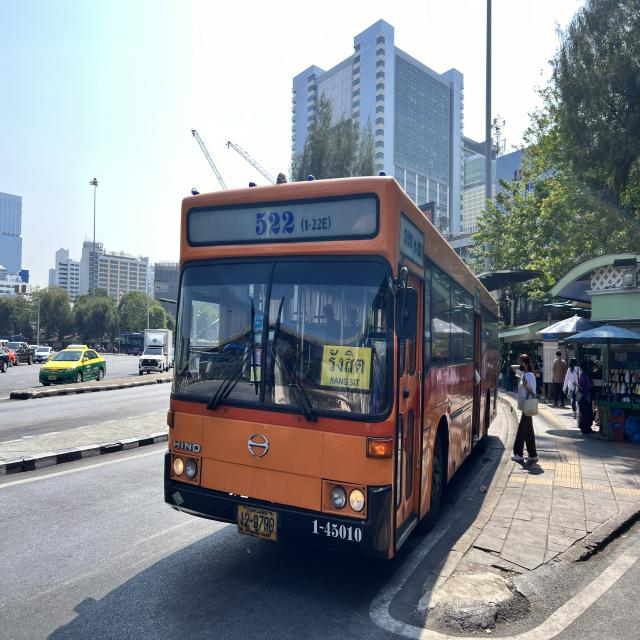BMTA-bus: (163, 178, 500, 563)
Bus-Line-Number: (249, 206, 334, 238)
Destination-Sign-Normal-Expressway: (319, 342, 372, 392)
